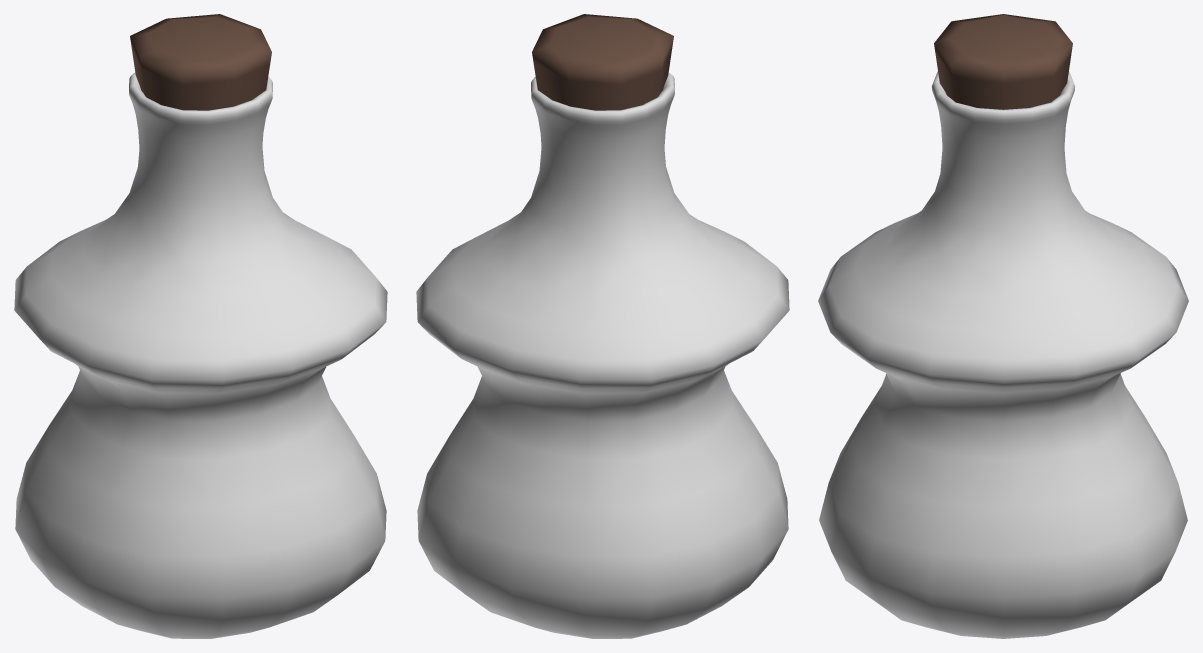
File: Potion5_Filled.glb
The picture shows the model from 3 angles, left to right: view 1: azimuth 30°, elevation 25°; view 2: azimuth 150°, elevation 25°; view 3: azimuth 270°, elevation 25°; orthographic projection.
Parts seen in each view (by area): view 1: Potion5_Filled; view 2: Potion5_Filled; view 3: Potion5_Filled.
Boxes of the visible parts, x1=… form: Potion5_Filled: x1=14, y1=14, x2=387, y2=638; Potion5_Filled: x1=416, y1=14, x2=789, y2=638; Potion5_Filled: x1=818, y1=14, x2=1188, y2=638.
Bounding box in the file's own units: 0.7081 × 1.23 × 0.7081.
